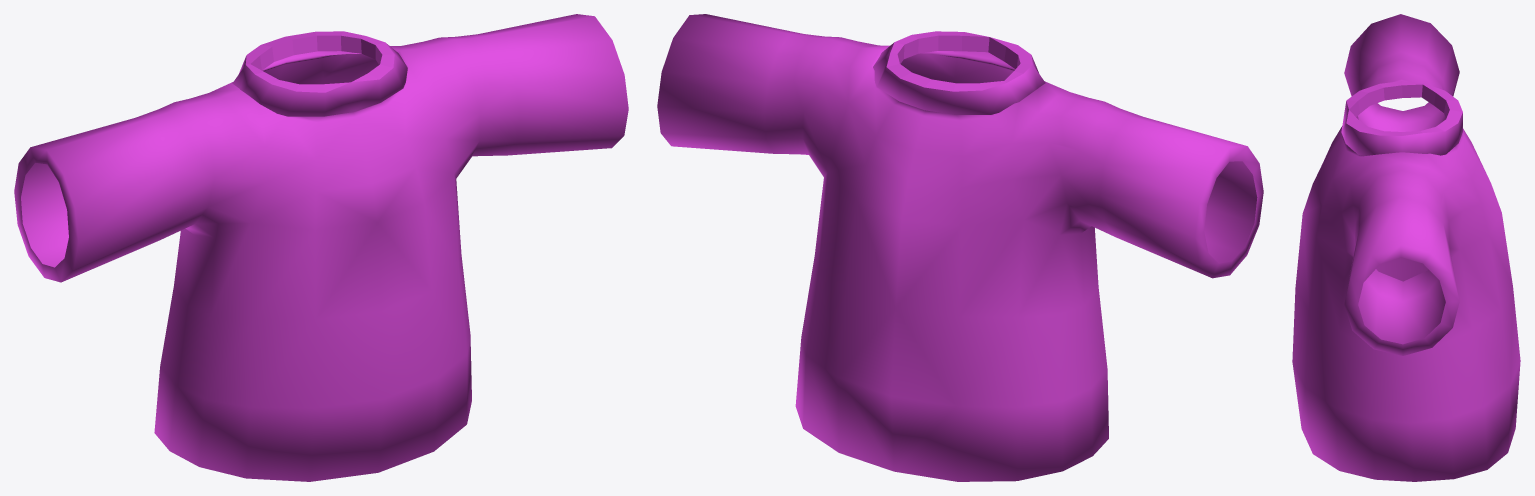
File: Rabbit_shirt.fbx
3 views of the same model, side by side, from view 1: azimuth 30°, elevation 25°; view 2: azimuth 150°, elevation 25°; view 3: azimuth 270°, elevation 25° (orthographic). The views are drawn at different scales.
Parts seen in each view (by area): view 1: Body_Rabbit.001; view 2: Body_Rabbit.001; view 3: Body_Rabbit.001.
Part boxes in pixels (<box>): Body_Rabbit.001: <box>14,14,628,481</box>; Body_Rabbit.001: <box>657,14,1263,481</box>; Body_Rabbit.001: <box>1292,14,1520,481</box>.
Size of the model in its own units: 0.3937 by 0.2519 by 0.1625.
